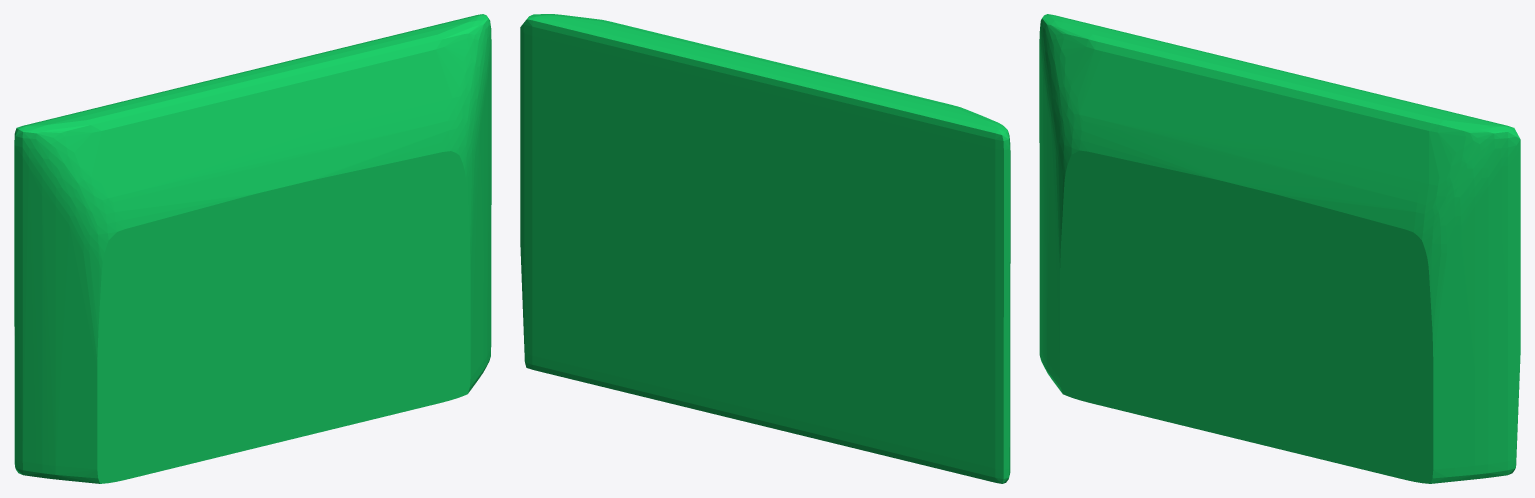
File: pelvis_part_23.obj
3 renders of one model, left to right at view 1: azimuth 30°, elevation 25°; view 2: azimuth 150°, elevation 25°; view 3: azimuth 330°, elevation 25°, orthographic.
Size of the model in its own units: 0.1134 by 0.0789 by 0.0144.
